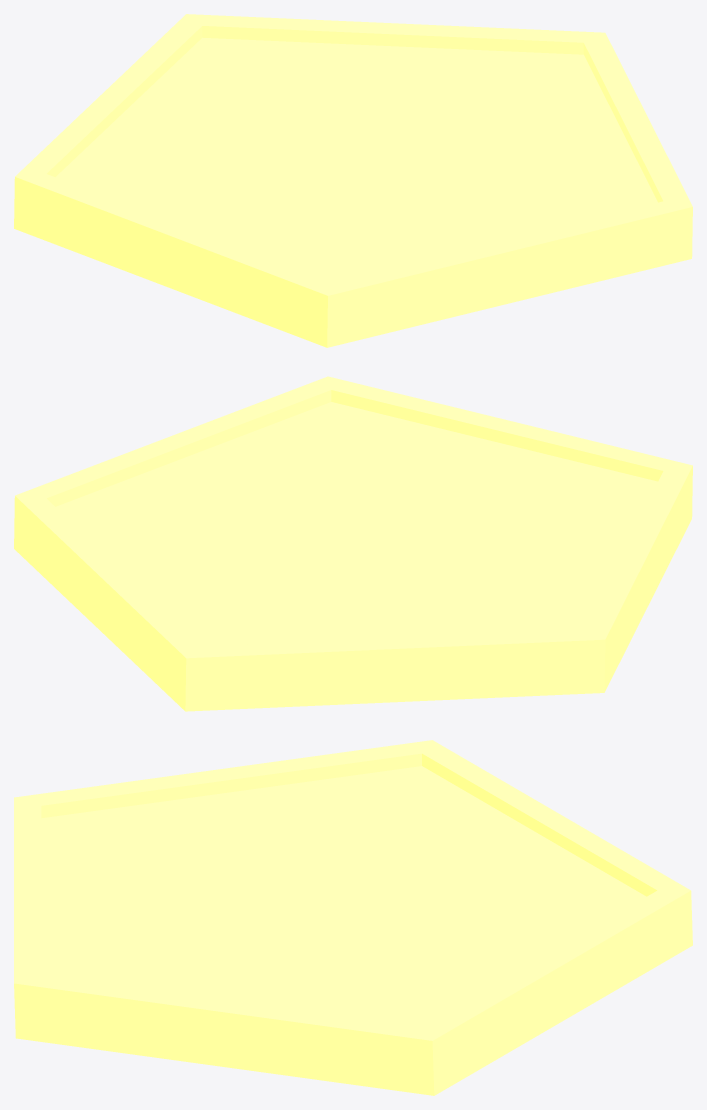
File: SFI0210026.fbx
3 views of the same model, one above another, from view 1: azimuth 30°, elevation 25°; view 2: azimuth 150°, elevation 25°; view 3: azimuth 270°, elevation 25° (orthographic). The views are drawn at different scales.
Parts seen in each view (by area): view 1: smSFI0210026; view 2: smSFI0210026; view 3: smSFI0210026.
Part boxes in pixels (left/top/right/bottom): smSFI0210026: left=14, top=14, right=692, bottom=347; smSFI0210026: left=14, top=376, right=692, bottom=711; smSFI0210026: left=14, top=740, right=692, bottom=1095.
Size of the model in its own units: 137 by 11.66 by 130.
